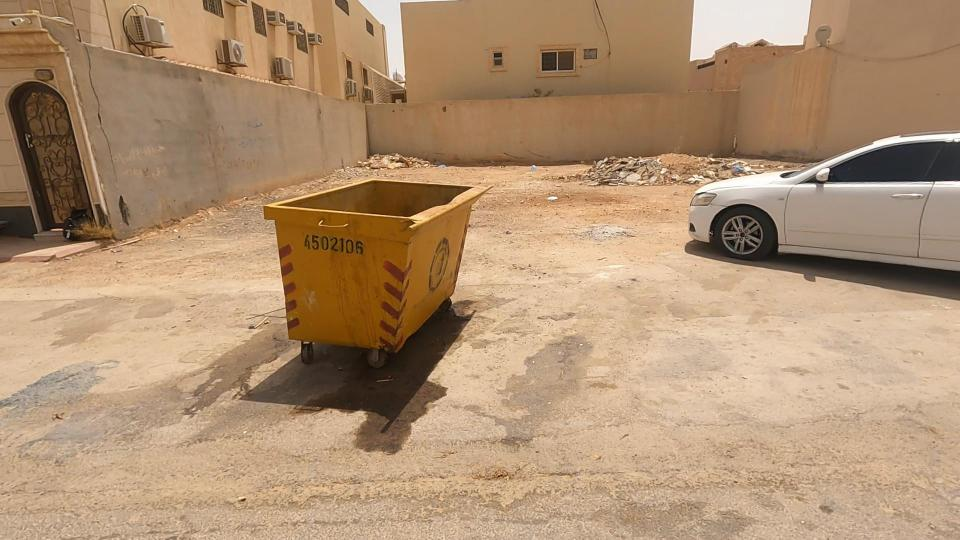GARBAGE: (688, 125, 784, 200), (589, 143, 664, 210), (496, 134, 560, 199), (515, 171, 580, 224), (659, 157, 723, 198), (415, 146, 466, 184)
